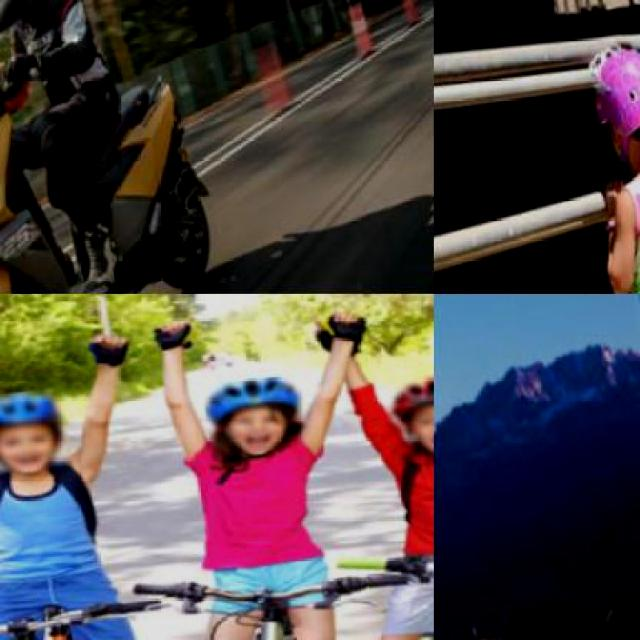With Helmet: (201, 366, 313, 460), (576, 29, 638, 172), (0, 381, 78, 480), (380, 360, 432, 466)
